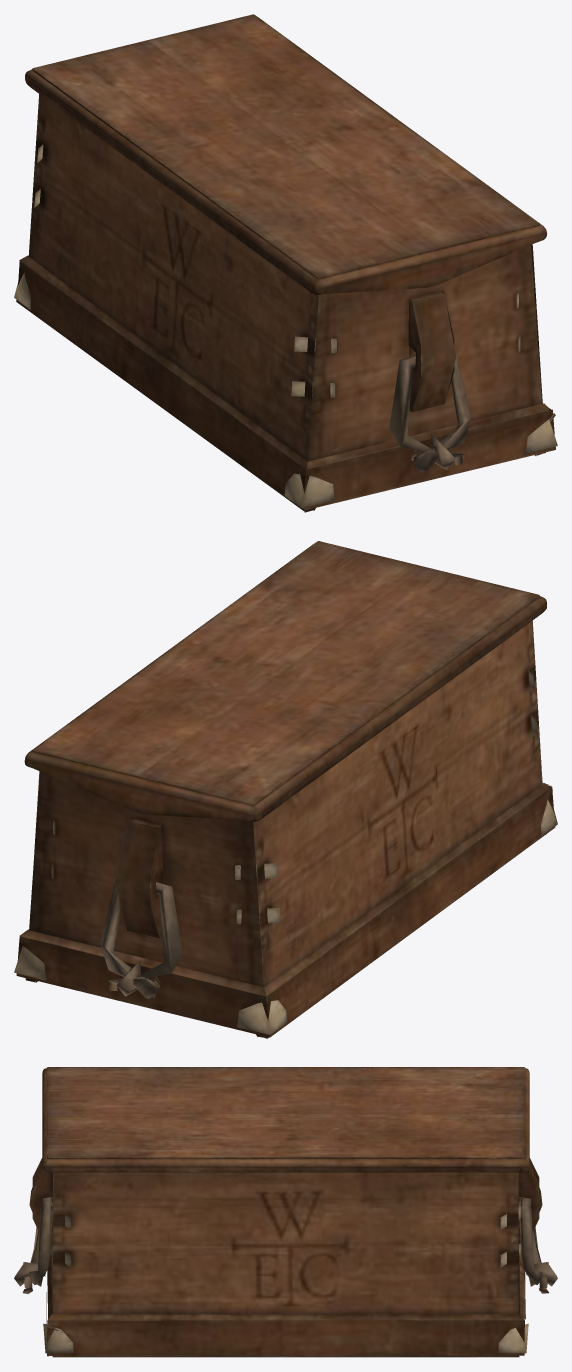
Rendered from crate.glb.
3 renders of one model, top to bottom at view 1: azimuth 30°, elevation 25°; view 2: azimuth 150°, elevation 25°; view 3: azimuth 270°, elevation 25°, orthographic. The views are drawn at different scales.
Visible parts, largest first — view 1: wooden_crate_02_crate, wooden_crate_02_lid; view 2: wooden_crate_02_crate, wooden_crate_02_lid; view 3: wooden_crate_02_crate, wooden_crate_02_lid.
Part boxes in pixels (bbox=[...]): wooden_crate_02_crate: bbox=[14, 94, 557, 512]; wooden_crate_02_lid: bbox=[25, 14, 546, 295]; wooden_crate_02_crate: bbox=[14, 621, 557, 1038]; wooden_crate_02_lid: bbox=[24, 541, 546, 821]; wooden_crate_02_crate: bbox=[14, 1158, 557, 1357]; wooden_crate_02_lid: bbox=[42, 1067, 529, 1172].
Size of the model in its own units: 0.5291 by 0.4637 by 1.16.
Materials: 1 (1 with a texture image).
